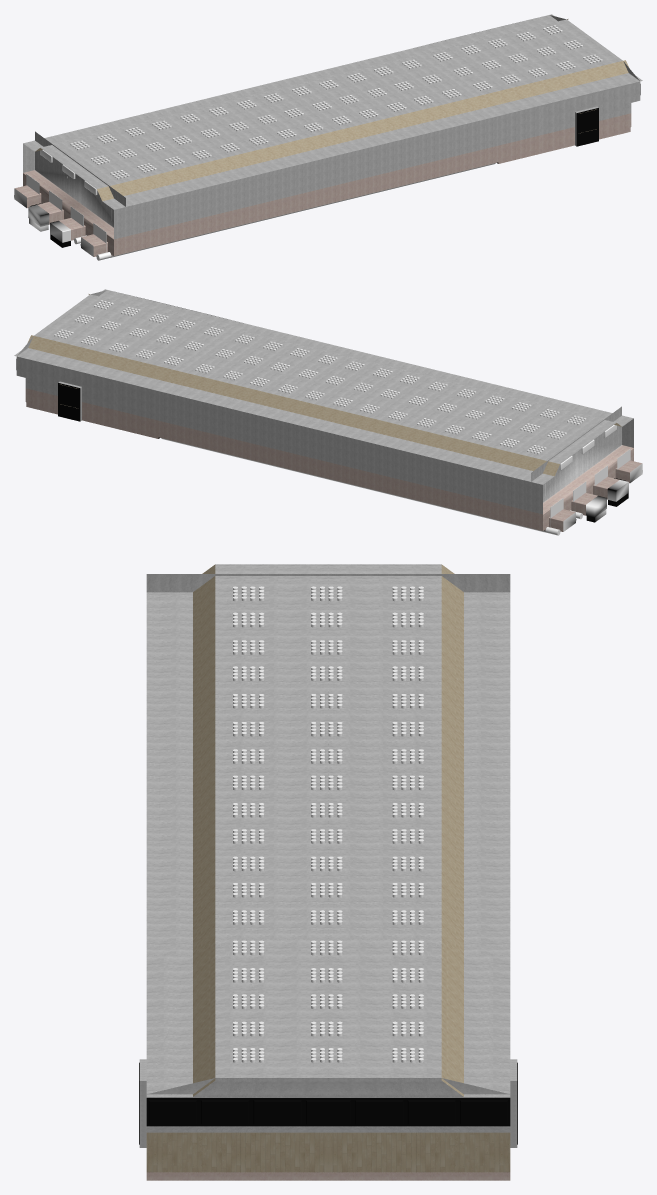
3 views of the same model, one above another, from view 1: azimuth 30°, elevation 25°; view 2: azimuth 150°, elevation 25°; view 3: azimuth 270°, elevation 25° (orthographic). The views are drawn at different scales.
Parts seen in each view (by area): view 1: Plane001, Cylinder003; view 2: Plane001, Cylinder003; view 3: Plane001, Cylinder003.
Part boxes in pixels (x1,y1,x2,y2): Plane001: (14, 14, 642, 260); Cylinder003: (70, 25, 602, 179); Plane001: (14, 289, 642, 535); Cylinder003: (54, 300, 586, 454); Plane001: (139, 564, 517, 1180); Cylinder003: (233, 586, 423, 1062).
Size of the model in its own units: 2557 by 277 by 761.
Materials: 12 (3 with a texture image).
